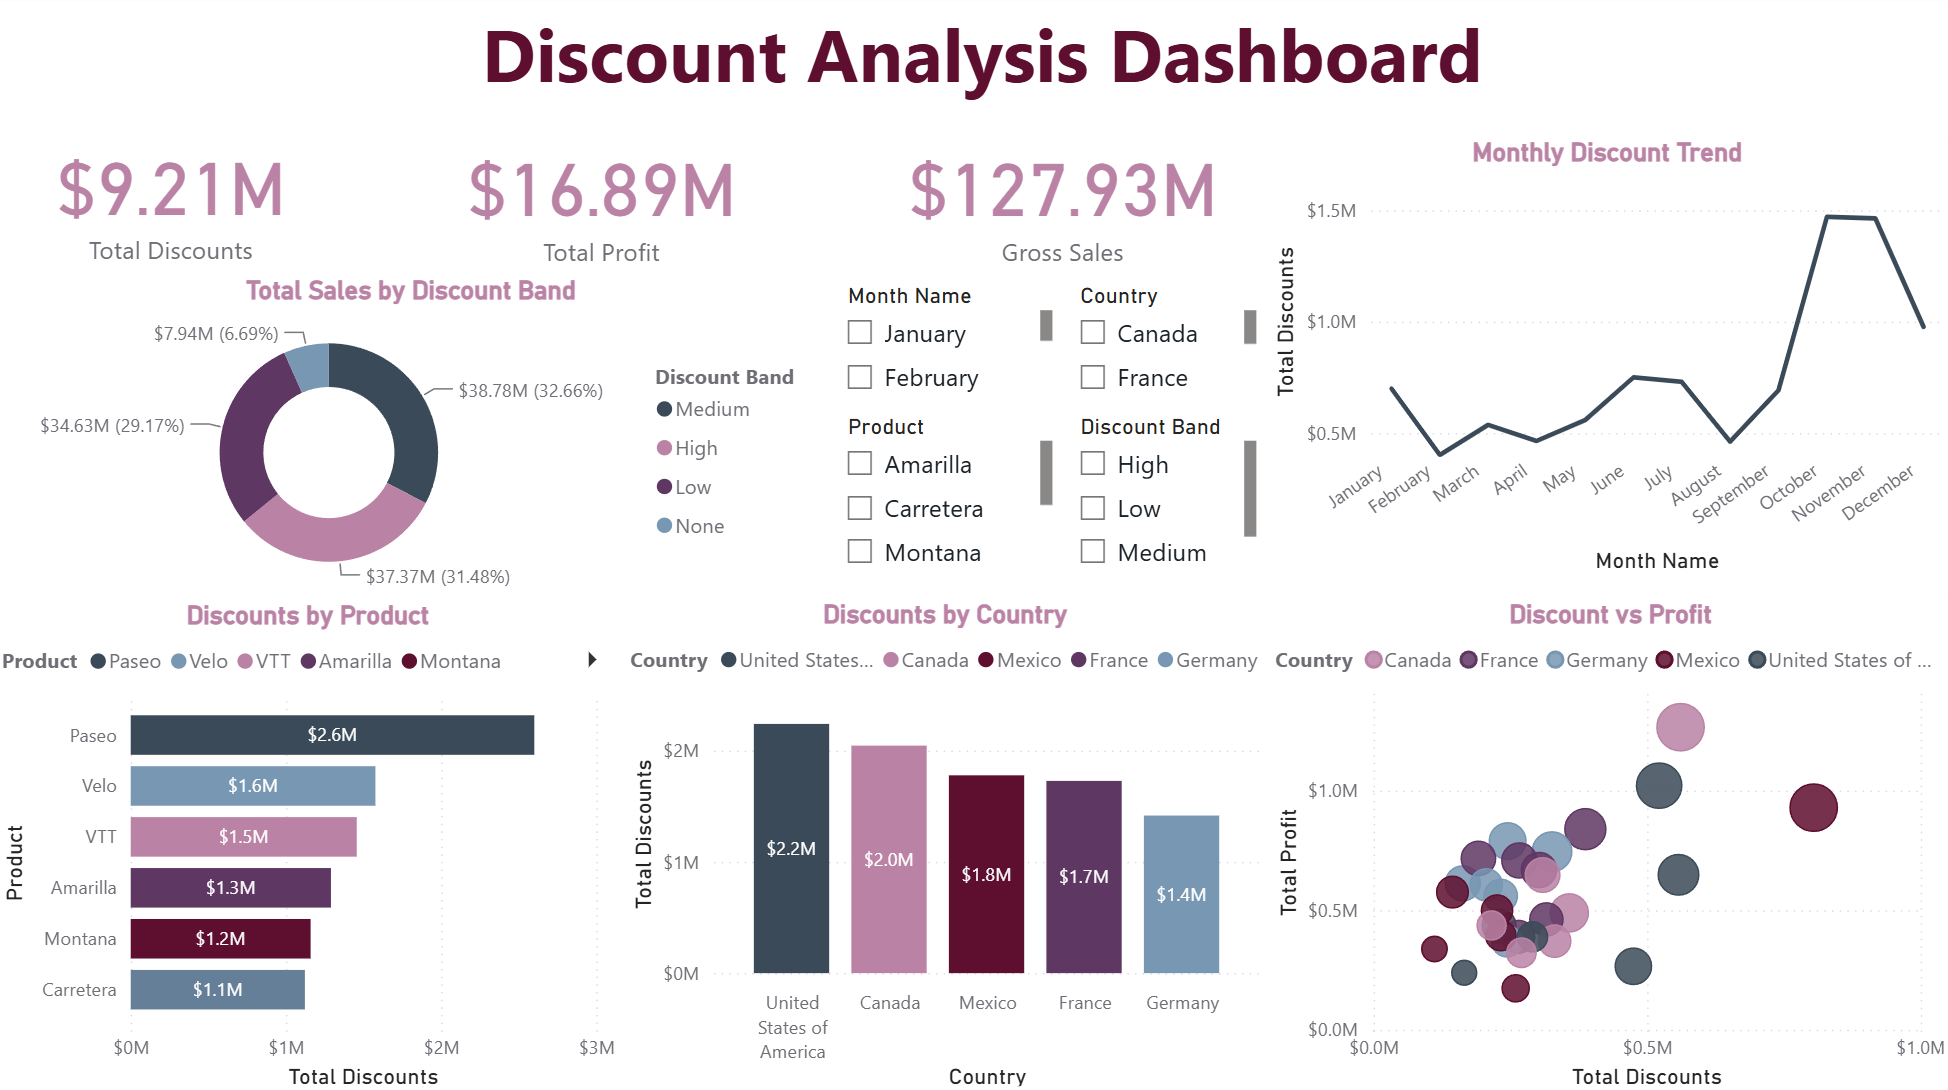

Layout of this report page (visuals, bound fields, positions):
{"tool":"powerbi","page":{"name":"Discount Analysis","canvas":[1280,720],"ordinal":3},"visuals":[{"type":"textbox","box":[10.4,0,1270,81.1],"z":0},{"type":"barChart","title":"Discounts by Product","fields":{"Category":["Dim_Product.Product"],"Series":["Dim_Product.Product"],"Y":["Measures (2).Total Discounts"]},"box":[0,396.3,410.2,323.3],"z":1000},{"type":"card","fields":{"Values":["Measures (2).Total Discounts"]},"box":[0,81.1,230.6,100.8],"z":2000},{"type":"card","fields":{"Values":["Measures (2).Gross Sales"]},"box":[563.1,82.3,268.8,100.8],"z":3000},{"type":"card","fields":{"Values":["Measures (2).Total Profit"]},"box":[230.6,82.3,332.6,100.8],"z":4000},{"type":"columnChart","title":"Discounts by Country","fields":{"Category":["Dim_Country.Country"],"Series":["Dim_Country.Country"],"Y":["Measures (2).Total Discounts"]},"box":[410.2,395.1,421.8,324.4],"z":5000},{"type":"scatterChart","title":"Discount vs Profit","fields":{"Category":["Dim_Product.Product"],"Series":["Dim_Country.Country"],"Size":["Measures (2).Total Sales"],"X":["Measures (2).Total Discounts"],"Y":["Measures (2).Total Profit"]},"box":[832,395.1,448.4,324.4],"z":6000},{"type":"donutChart","fields":{"Category":["financials.Discount Band"],"Y":["Measures (2).Total Sales"]},"box":[0,183.3,544.9,212.7],"z":7000},{"type":"lineChart","title":"Monthly Discount Trend","fields":{"Category":["Dim_Date.Month Name"],"Y":["Measures (2).Total Discounts"]},"box":[830.1,93.1,448,289],"z":8000},{"type":"slicer","fields":{"Values":["Dim_Country.Country"]},"box":[696.8,183.3,133.3,85.3],"z":9000},{"type":"slicer","fields":{"Values":["Dim_Product.Product"]},"box":[544.9,268.5,151.8,113.6],"z":10000},{"type":"slicer","fields":{"Values":["financials.Discount Band"]},"box":[696.8,268.5,133.3,113.7],"z":11000},{"type":"slicer","fields":{"Values":["Dim_Date.Month Name"]},"box":[544.9,183.3,151.8,84.6],"z":12000}]}

Visuals, with their boxes in screenshot pixels (x1, y1, x2, y2), scaled from the page's 1280x720 canvas onto the 1948x1090 screenshot:
textbox: BBox(16, 0, 1947, 123)
"Discounts by Product" barChart: BBox(0, 600, 624, 1089)
card - Measures (2).Total Discounts: BBox(0, 123, 351, 275)
card - Measures (2).Gross Sales: BBox(857, 125, 1266, 277)
card - Measures (2).Total Profit: BBox(351, 125, 857, 277)
"Discounts by Country" columnChart: BBox(624, 598, 1266, 1089)
"Discount vs Profit" scatterChart: BBox(1266, 598, 1947, 1089)
donutChart - financials.Discount Band x Measures (2).Total Sales: BBox(0, 277, 829, 600)
"Monthly Discount Trend" lineChart: BBox(1263, 141, 1945, 578)
slicer - Dim_Country.Country: BBox(1060, 277, 1263, 407)
slicer - Dim_Product.Product: BBox(829, 406, 1060, 578)
slicer - financials.Discount Band: BBox(1060, 406, 1263, 579)
slicer - Dim_Date.Month Name: BBox(829, 277, 1060, 406)
